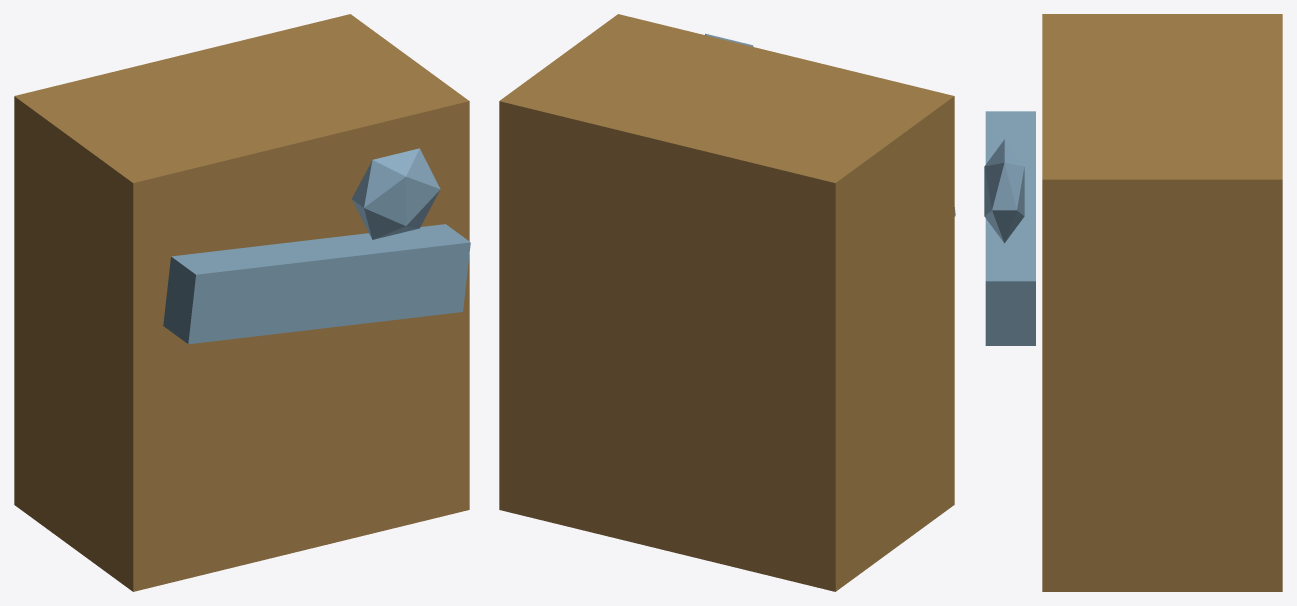
File: vendor_helper_outfit.glb
3 views of the same model, side by side, from view 1: azimuth 30°, elevation 25°; view 2: azimuth 150°, elevation 25°; view 3: azimuth 270°, elevation 25° (orthographic).
Parts seen in each view (by area): view 1: outfit_torso, outfit_trim, outfit_badge; view 2: outfit_torso; view 3: outfit_torso, outfit_trim, outfit_badge.
Part boxes in pixels (left/top/right/bottom): outfit_torso: left=14, top=14, right=469, bottom=591; outfit_trim: left=163, top=224, right=470, bottom=344; outfit_badge: left=352, top=148, right=440, bottom=239; outfit_torso: left=499, top=14, right=954, bottom=591; outfit_torso: left=1042, top=14, right=1282, bottom=591; outfit_trim: left=985, top=111, right=1035, bottom=345; outfit_badge: left=984, top=139, right=1024, bottom=243.
Size of the model in its own units: 0.62 by 0.72 by 0.4718.
